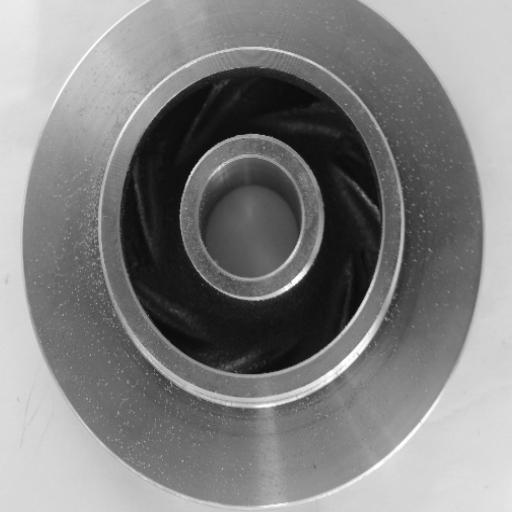polished_casting: (19, 0, 485, 512)
